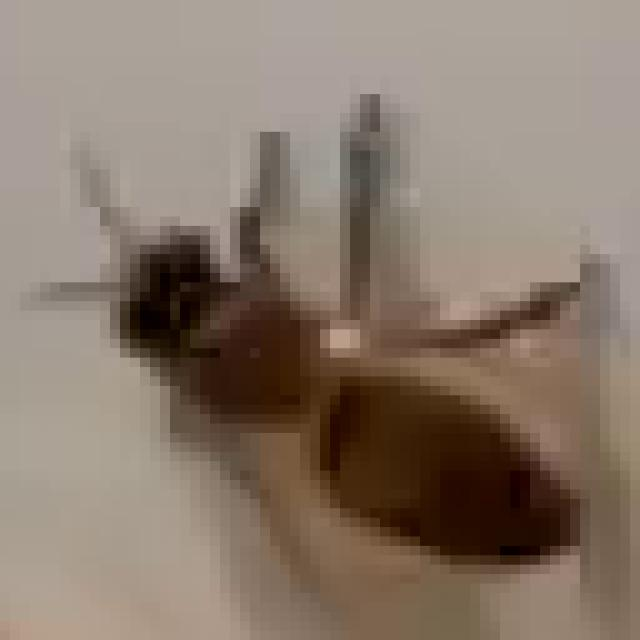honeybee: (69, 151, 606, 596)
